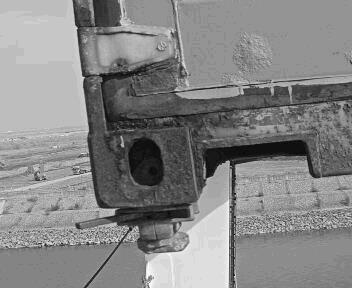twist_lock_1: (201, 155, 270, 202)
